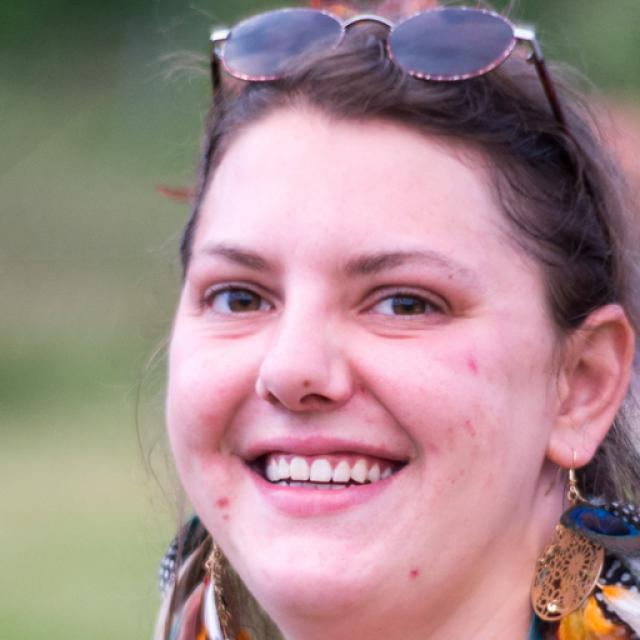Acne: (461, 354, 483, 379), (405, 565, 426, 587), (210, 493, 232, 511)
